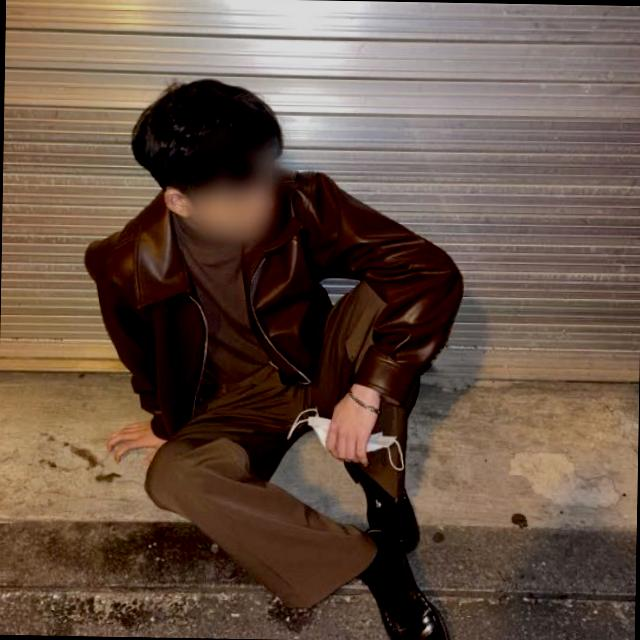jacket: (79, 159, 467, 450)
slacks: (141, 278, 417, 614)
